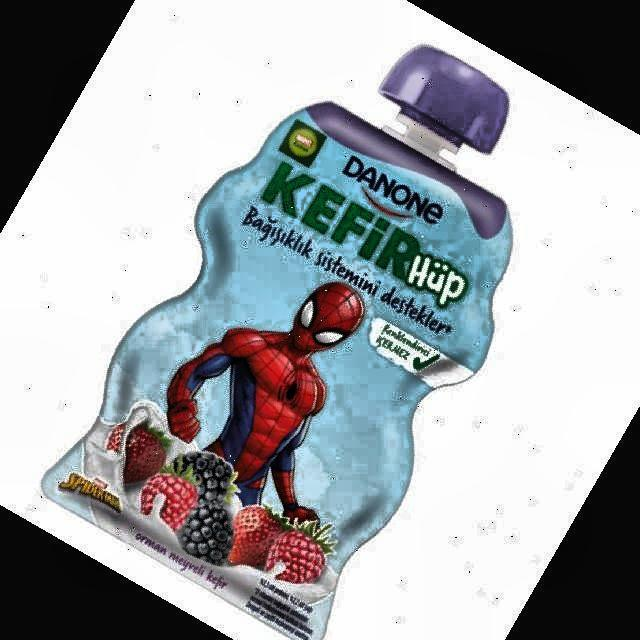plastic: (42, 45, 511, 640)
